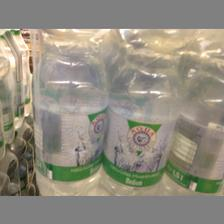Wasser: (102, 28, 198, 192), (26, 28, 106, 194), (163, 28, 223, 192)
